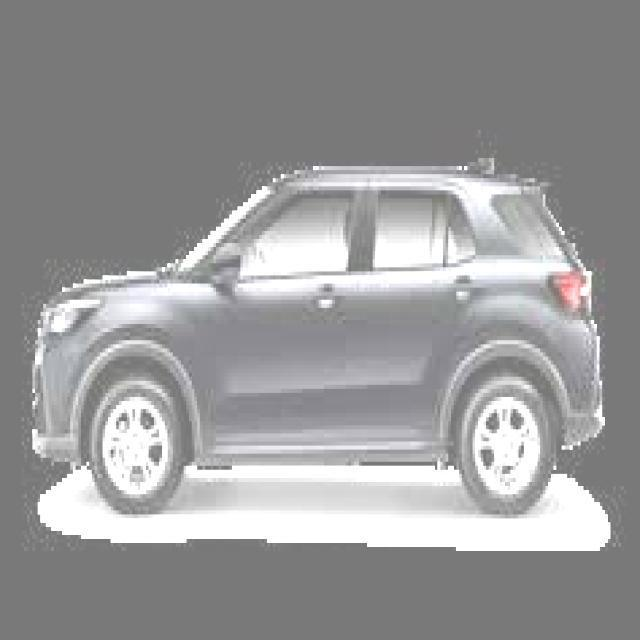PeroduaAtiva: (28, 151, 606, 518)
